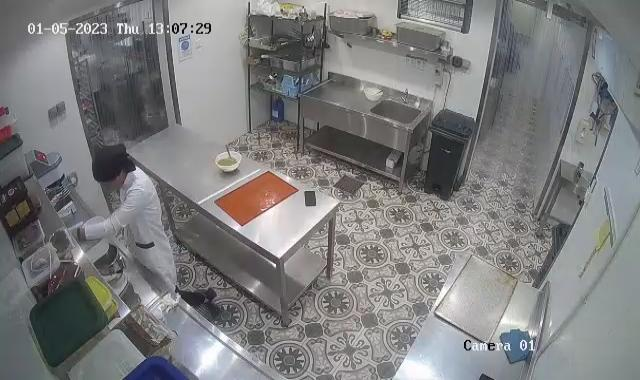no_hairnet: (91, 141, 127, 187)
